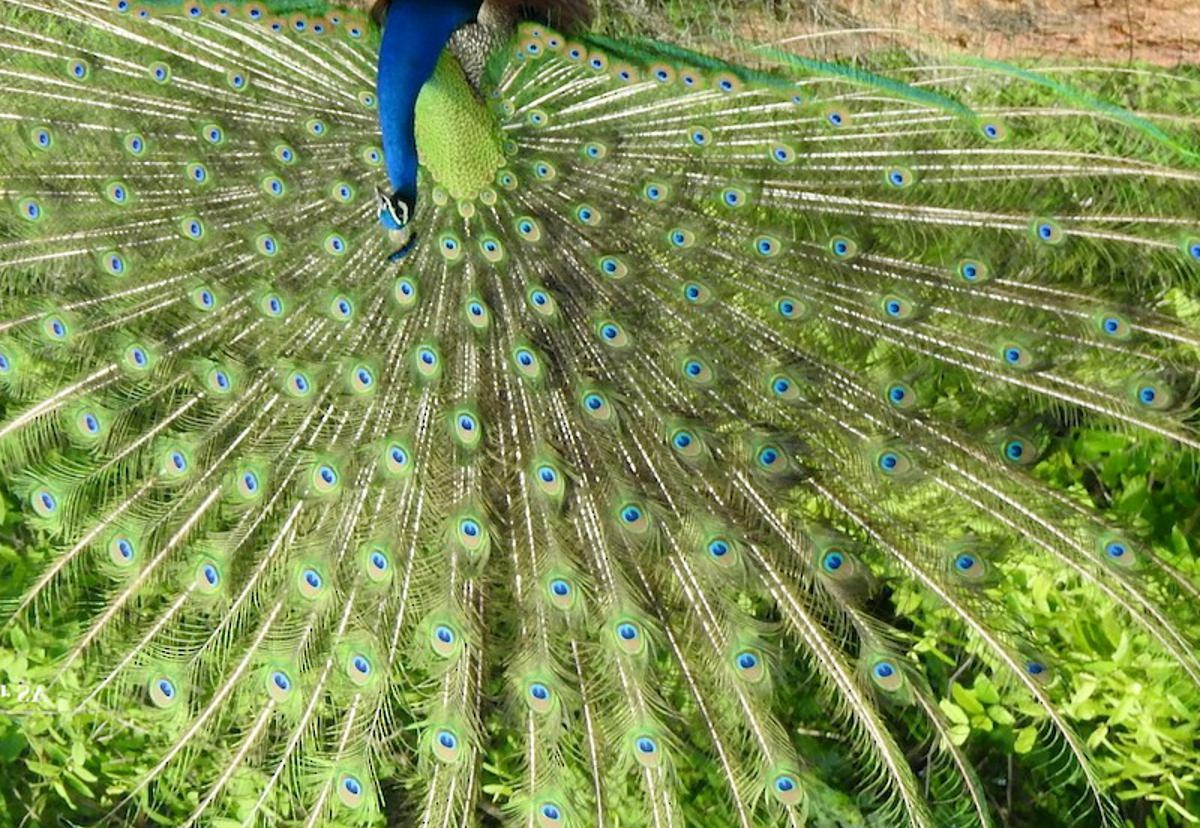peacock: (126, 1, 781, 491)
